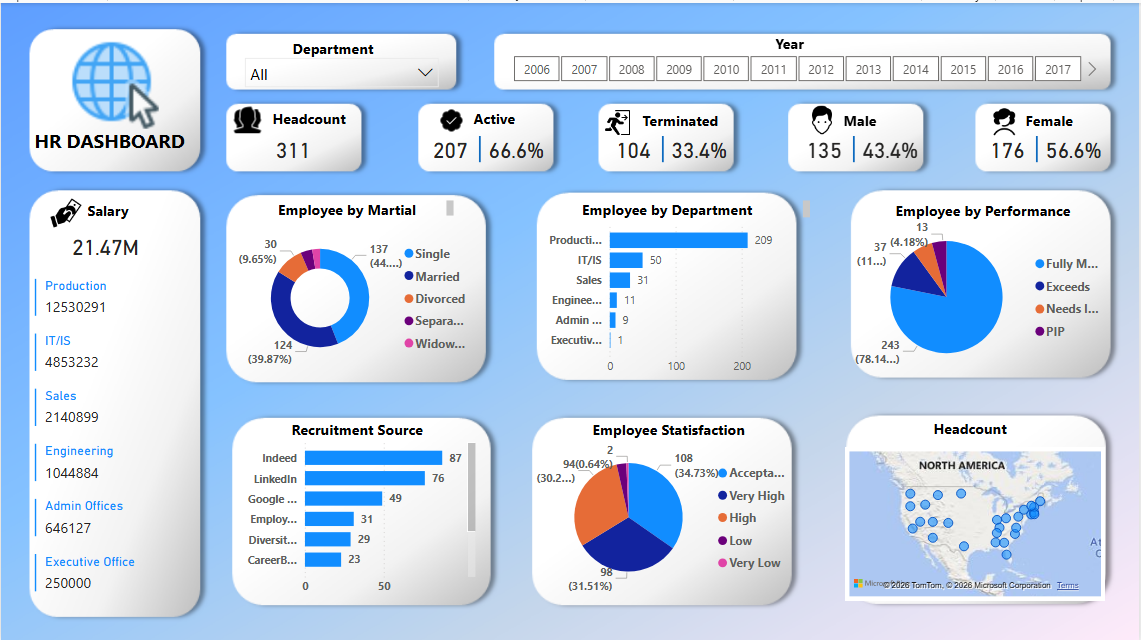

Layout of this report page (visuals, bound fields, positions):
{"tool":"powerbi","page":{"name":"Page 1","canvas":[1280,720],"ordinal":0},"visuals":[{"type":"textbox","box":[32.1,134.9,191.5,39.8],"z":0},{"type":"card","fields":{"Values":["New Measure.Active"]},"box":[454.9,140.1,101.5,48.8],"z":0,"group":"g1"},{"type":"card","fields":{"Values":["New Measure.Terminated"]},"box":[660.6,140.1,101.5,48.8],"z":0,"group":"g2"},{"type":"card","fields":{"Values":["New Measure.Male"]},"box":[875.2,140.1,101.5,48.8],"z":0,"group":"g4"},{"type":"card","fields":{"Values":["New Measure.Female"]},"box":[1080.8,140.1,101.5,48.8],"z":0,"group":"g3"},{"type":"textbox","box":[322.6,34.7,132.4,33.4],"z":1000},{"type":"card","fields":{"Values":["New Measure.Active %"]},"box":[529.4,140.1,101.5,48.8],"z":1000,"group":"g1"},{"type":"card","fields":{"Values":["New Measure.Terminated %"]},"box":[735.1,140.1,101.5,48.8],"z":1000,"group":"g2"},{"type":"card","fields":{"Values":["New Measure.Male %"]},"box":[949.7,140.1,101.5,48.8],"z":1000,"group":"g4"},{"type":"card","fields":{"Values":["New Measure.Female %"]},"box":[1155.3,140.1,101.5,48.8],"z":1000,"group":"g3"},{"type":"slicer","fields":{"Values":["HRData.Department"]},"box":[264.7,51.4,237.8,43.7],"z":2000},{"type":"shape","box":[526.9,149.1,24.4,29.6],"z":2000,"group":"g1"},{"type":"shape","box":[732.6,149.1,24.4,29.6],"z":2000,"group":"g2"},{"type":"shape","box":[947.2,149.1,24.4,29.6],"z":2000,"group":"g4"},{"type":"shape","box":[1152.8,149.1,24.4,29.6],"z":2000,"group":"g3"},{"type":"slicer","fields":{"Values":["HRData.Hiring year"]},"box":[551.3,52.7,687.6,42.4],"z":3000},{"type":"textbox","box":[866.2,29.6,57.8,38.6],"z":4000},{"type":"textbox","box":[307.1,217.2,206.9,29.6],"z":5000},{"type":"textbox","box":[1001.1,217.2,232.6,38.6],"z":6000},{"type":"textbox","box":[649,217.2,266,29.6],"z":7000},{"type":"textbox","box":[943.3,115.7,57.8,38.6],"z":8000},{"type":"textbox","box":[526.9,113.1,83.5,33.4],"z":9000},{"type":"textbox","box":[717.1,115.7,116.9,33.4],"z":10000},{"type":"textbox","box":[1147.6,115.7,86.1,33.4],"z":11000},{"type":"textbox","box":[300.7,113.1,110.5,38.6],"z":12000},{"type":"card","fields":{"Values":["New Measure.Headcount"]},"box":[277.6,140.1,101.5,48.8],"z":13000},{"type":"group","id":"g1","title":"Group 1","box":[454.9,140.1,176.1,48.8],"z":14000},{"type":"group","id":"g2","title":"Group 1","box":[660.6,140.1,176.1,48.8],"z":15000},{"type":"group","id":"g3","title":"Group 1","box":[1080.8,140.1,176.1,48.8],"z":16000},{"type":"group","id":"g4","title":"Group 1","box":[875.2,140.1,176.1,48.8],"z":17000},{"type":"donutChart","fields":{"Y":["New Measure.Headcount"],"Category":["HRData.MaritalStatus"]},"box":[259.6,246.7,280.2,170.9],"z":18000},{"type":"clusteredBarChart","fields":{"Y":["CountNonNull(HRData.EmployeeID)"],"Category":["HRData.Department"]},"box":[600.2,236.5,287.9,190.2],"z":19000},{"type":"pieChart","fields":{"Y":["New Measure.Headcount"],"Category":["HRData.PerformanceScore"]},"box":[960,226.2,293,209.5],"z":20000},{"type":"clusteredBarChart","fields":{"Category":["HRData.RecruitmentSource"],"Y":["New Measure.Headcount"]},"box":[259,481,279.6,193.2],"z":21000},{"type":"textbox","box":[660.6,463.2,245.3,37],"z":22000},{"type":"textbox","box":[322.1,463.2,178.2,38.4],"z":23000},{"type":"textbox","box":[1043.5,462.7,125.9,39.8],"z":24000},{"type":"pieChart","fields":{"Y":["New Measure.Headcount"],"Category":["HRData.statisfaction status"]},"box":[600.3,482.4,297.4,191.9],"z":25000},{"type":"map","fields":{"Category":["HRData.State"]},"box":[949.7,499.9,293,173.5],"z":26000},{"type":"textbox","box":[92.5,217.2,110.5,38.6],"z":27000},{"type":"card","fields":{"Values":["New Measure.Salary"]},"box":[50.1,244.2,133.7,60.4],"z":28000},{"type":"multiRowCard","fields":{"Values":["Sum(HRData.Salary)","HRData.Department"]},"box":[32.1,304.6,191.5,415.1],"z":29000},{"type":"image","box":[488.4,113.1,37.3,37.3],"z":30000},{"type":"image","box":[254.5,106.7,46.3,50.1],"z":31000},{"type":"image","box":[670.8,113.1,46.3,42.4],"z":32000},{"type":"image","box":[1105.2,104.1,47.6,56.5],"z":33000},{"type":"image","box":[900.9,109.2,45,45],"z":34000},{"type":"image","box":[66.8,30.8,116.9,115.7],"z":35000},{"type":"image","box":[50.1,209.5,45,52.7],"z":35001}]}

Visuals, with their boxes in screenshot pixels (x1, y1, x2, y2), scaled from the page's 1280x720 canvas onto the 1141x640 screenshot:
textbox: left=29, top=120, right=199, bottom=155
card - New Measure.Active: left=406, top=125, right=496, bottom=168
card - New Measure.Terminated: left=589, top=125, right=679, bottom=168
card - New Measure.Male: left=780, top=125, right=871, bottom=168
card - New Measure.Female: left=963, top=125, right=1054, bottom=168
textbox: left=288, top=31, right=406, bottom=61
card - New Measure.Active %: left=472, top=125, right=562, bottom=168
card - New Measure.Terminated %: left=655, top=125, right=746, bottom=168
card - New Measure.Male %: left=847, top=125, right=937, bottom=168
card - New Measure.Female %: left=1030, top=125, right=1120, bottom=168
slicer - HRData.Department: left=236, top=46, right=448, bottom=85
shape: left=470, top=133, right=491, bottom=159
shape: left=653, top=133, right=675, bottom=159
shape: left=844, top=133, right=866, bottom=159
shape: left=1028, top=133, right=1049, bottom=159
slicer - HRData.Hiring year: left=491, top=47, right=1104, bottom=85
textbox: left=772, top=26, right=824, bottom=61
textbox: left=274, top=193, right=458, bottom=219
textbox: left=892, top=193, right=1100, bottom=227
textbox: left=579, top=193, right=816, bottom=219
textbox: left=841, top=103, right=892, bottom=137
textbox: left=470, top=101, right=544, bottom=130
textbox: left=639, top=103, right=743, bottom=133
textbox: left=1023, top=103, right=1100, bottom=133
textbox: left=268, top=101, right=367, bottom=135
card - New Measure.Headcount: left=247, top=125, right=338, bottom=168
"Group 1" group: left=406, top=125, right=562, bottom=168
"Group 1" group: left=589, top=125, right=746, bottom=168
"Group 1" group: left=963, top=125, right=1120, bottom=168
"Group 1" group: left=780, top=125, right=937, bottom=168
donutChart - New Measure.Headcount x HRData.MaritalStatus: left=231, top=219, right=481, bottom=371
clusteredBarChart - CountNonNull(HRData.EmployeeID) x HRData.Department: left=535, top=210, right=792, bottom=379
pieChart - New Measure.Headcount x HRData.PerformanceScore: left=856, top=201, right=1117, bottom=387
clusteredBarChart - HRData.RecruitmentSource x New Measure.Headcount: left=231, top=428, right=480, bottom=599
textbox: left=589, top=412, right=808, bottom=445
textbox: left=287, top=412, right=446, bottom=446
textbox: left=930, top=411, right=1042, bottom=447
pieChart - New Measure.Headcount x HRData.statisfaction status: left=535, top=429, right=800, bottom=599
map - HRData.State: left=847, top=444, right=1108, bottom=599
textbox: left=82, top=193, right=181, bottom=227
card - New Measure.Salary: left=45, top=217, right=164, bottom=271
multiRowCard - Sum(HRData.Salary) x HRData.Department: left=29, top=271, right=199, bottom=639
image: left=435, top=101, right=469, bottom=134
image: left=227, top=95, right=268, bottom=139
image: left=598, top=101, right=639, bottom=138
image: left=985, top=93, right=1028, bottom=143
image: left=803, top=97, right=843, bottom=137
image: left=60, top=27, right=164, bottom=130
image: left=45, top=186, right=85, bottom=233
